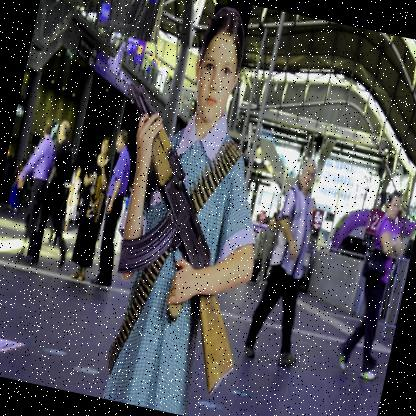rifle: (55, 63, 296, 406)
